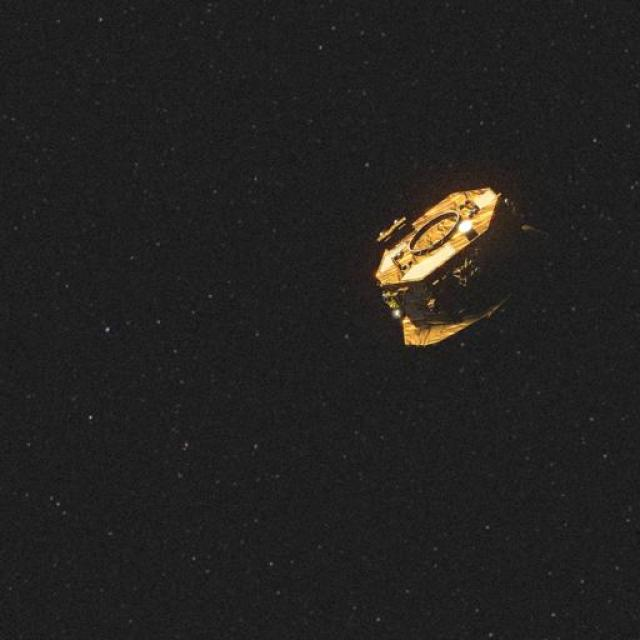lisa_pathfinder: (357, 170, 574, 368)
